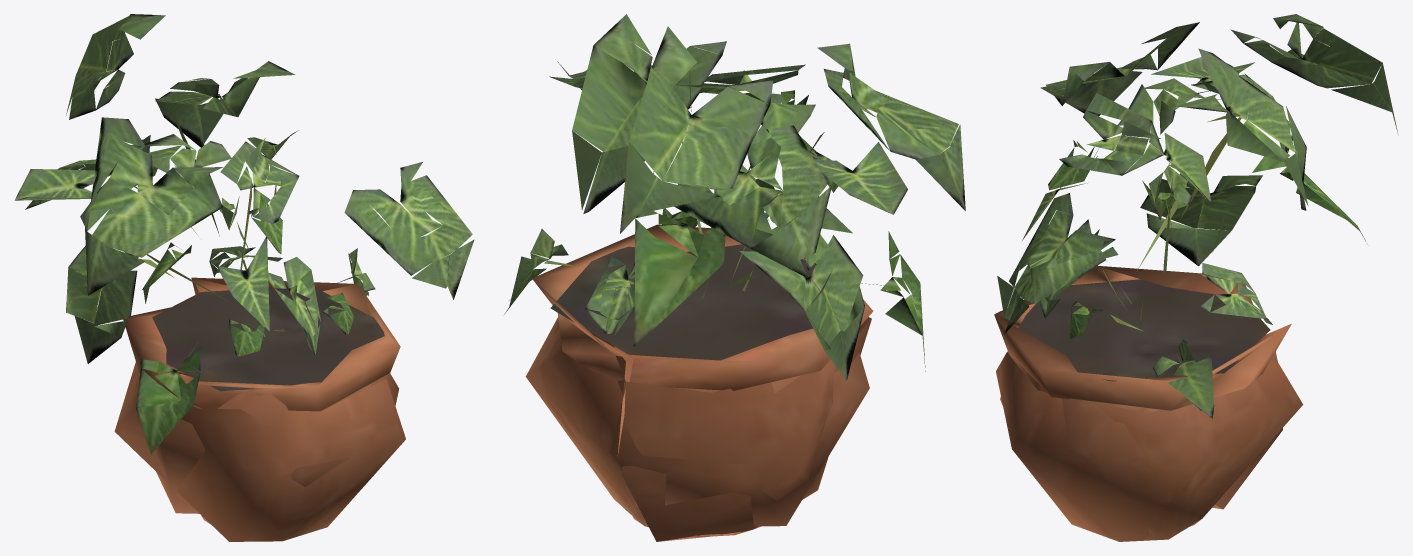
File: plant_leafy_pot_lod1.glb
3 renders of one model, left to right at view 1: azimuth 30°, elevation 25°; view 2: azimuth 150°, elevation 25°; view 3: azimuth 270°, elevation 25°, orthographic. The views are drawn at different scales.
Parts seen in each view (by area): view 1: plant_leafy_pot.001; view 2: plant_leafy_pot.001; view 3: plant_leafy_pot.001.
Boxes of the visible parts, x1,y1,x2,y2 form: plant_leafy_pot.001: [14, 14, 474, 541]; plant_leafy_pot.001: [504, 14, 965, 541]; plant_leafy_pot.001: [994, 14, 1398, 541].
Size of the model in its own units: 0.6991 by 0.8477 by 0.6521.
Materials: 2 (2 with a texture image).
